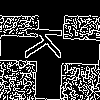K: (25, 25, 72, 61)
